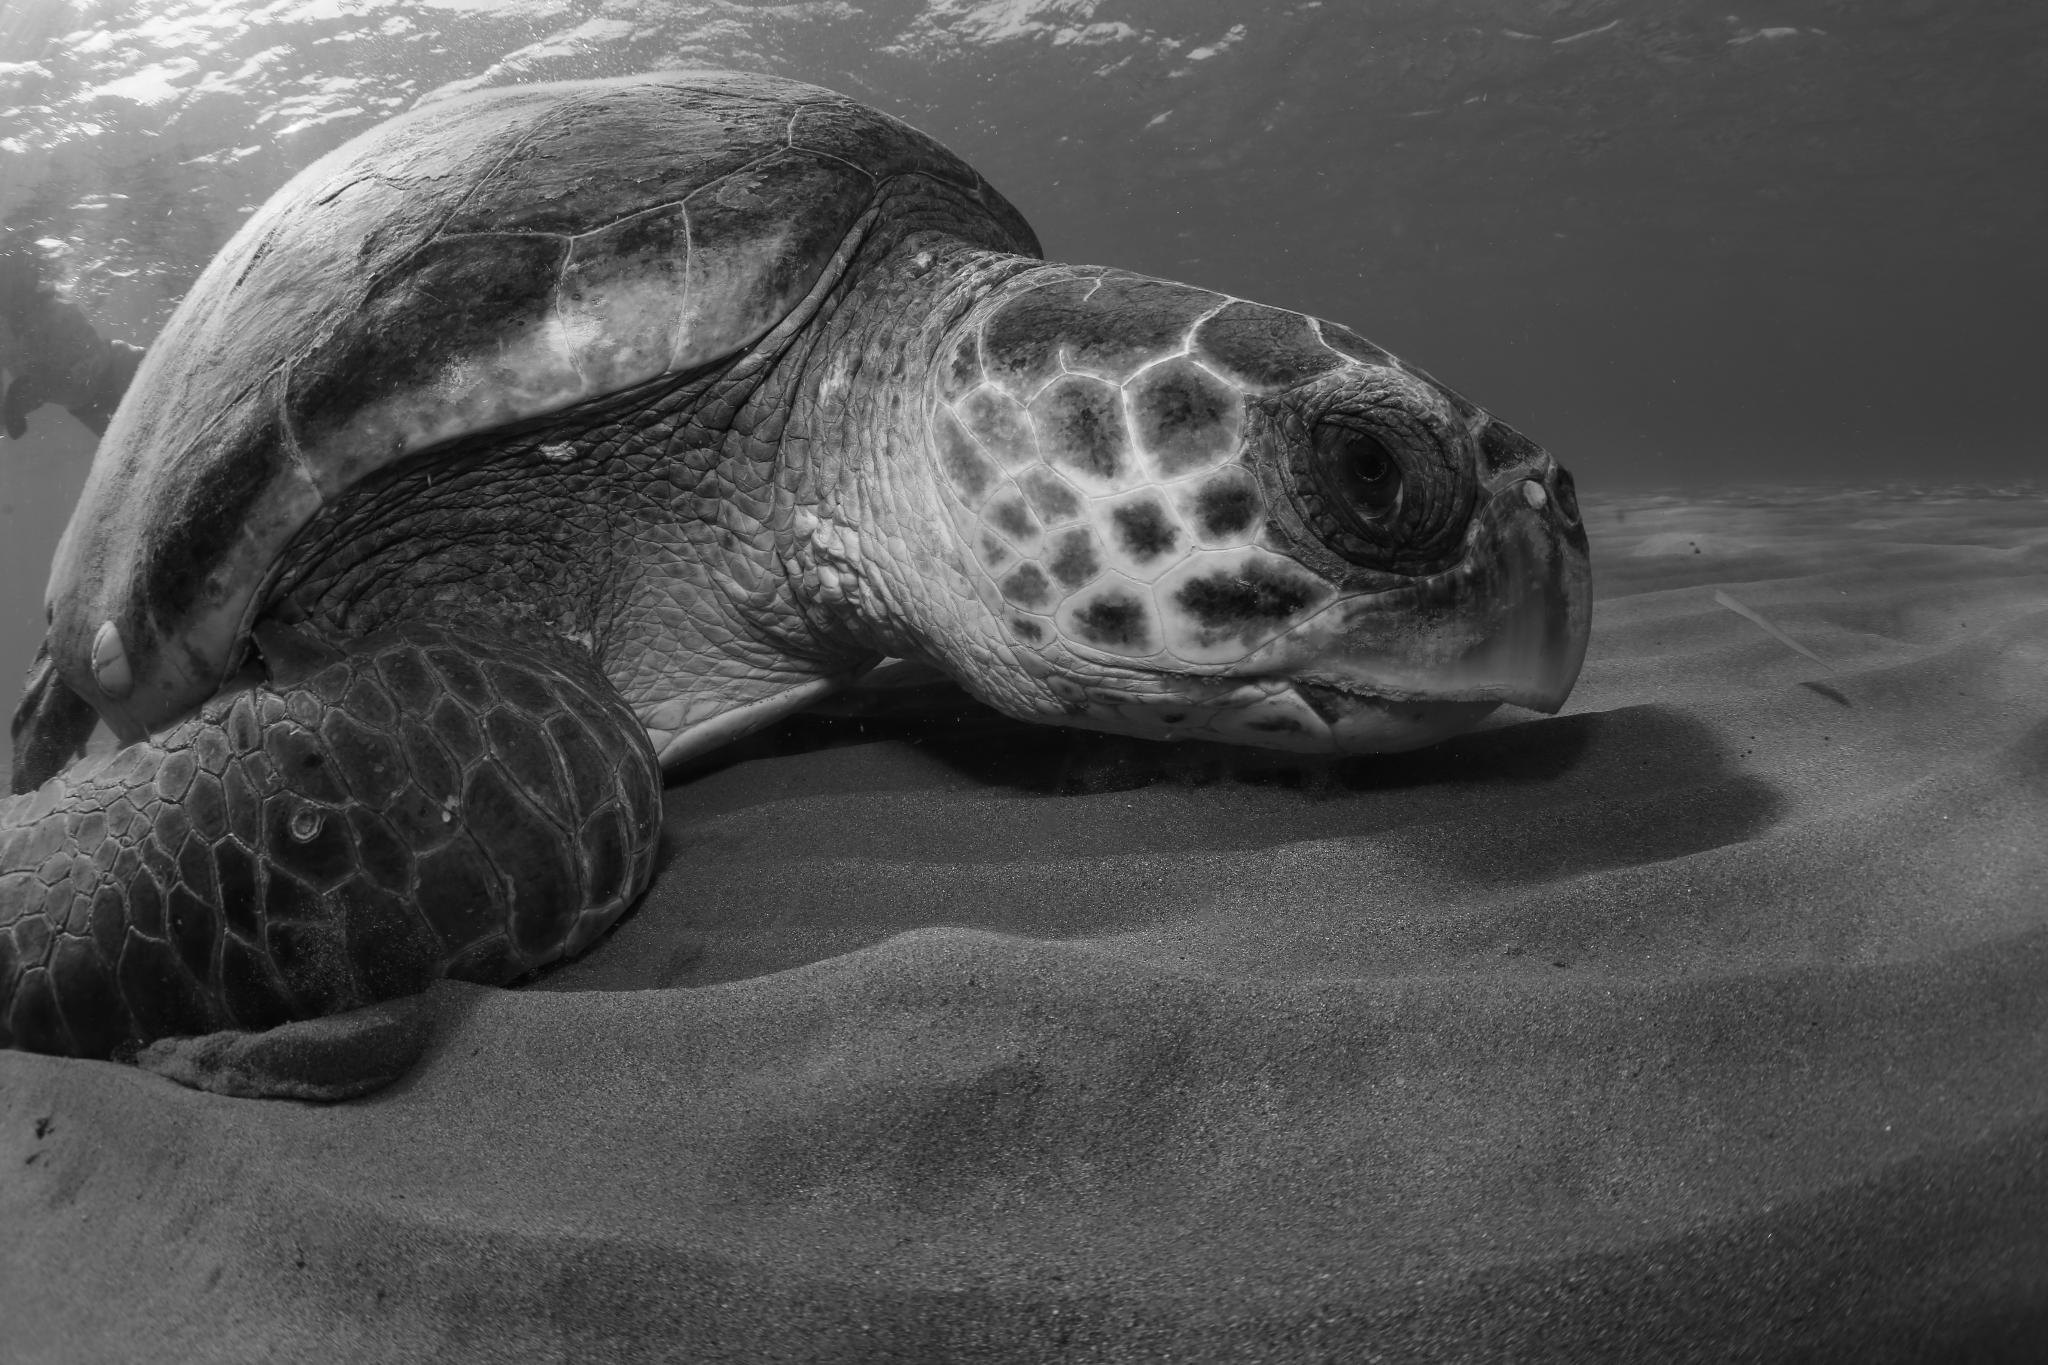Head: (896, 259, 1591, 752)
